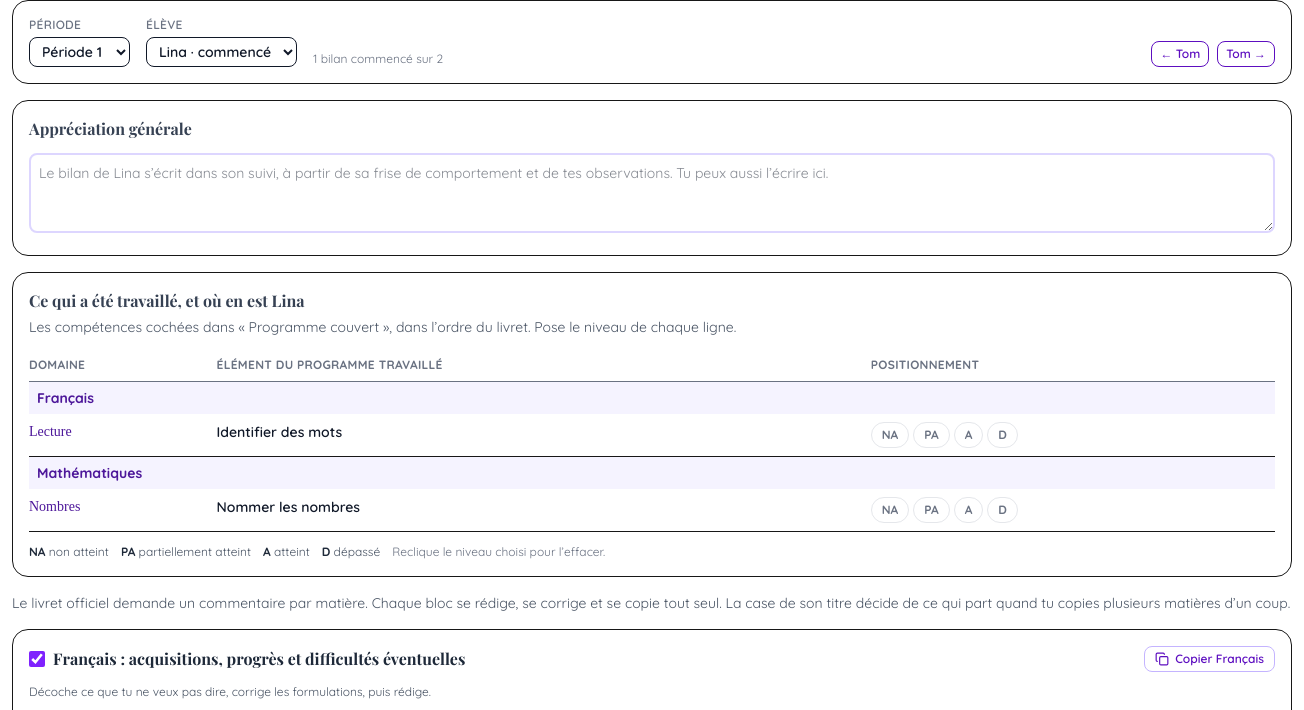
Livret › change d’élève avec les flèches et suit le compteur
This screenshot has width=1304, height=710.
Check: the text "1 bilan commencé sur 2" is shown, box x1=313 y1=51 x2=443 y2=67
Click the button "Tom →".
click(1246, 54)  # box x1=1217 y1=41 x2=1275 y2=67
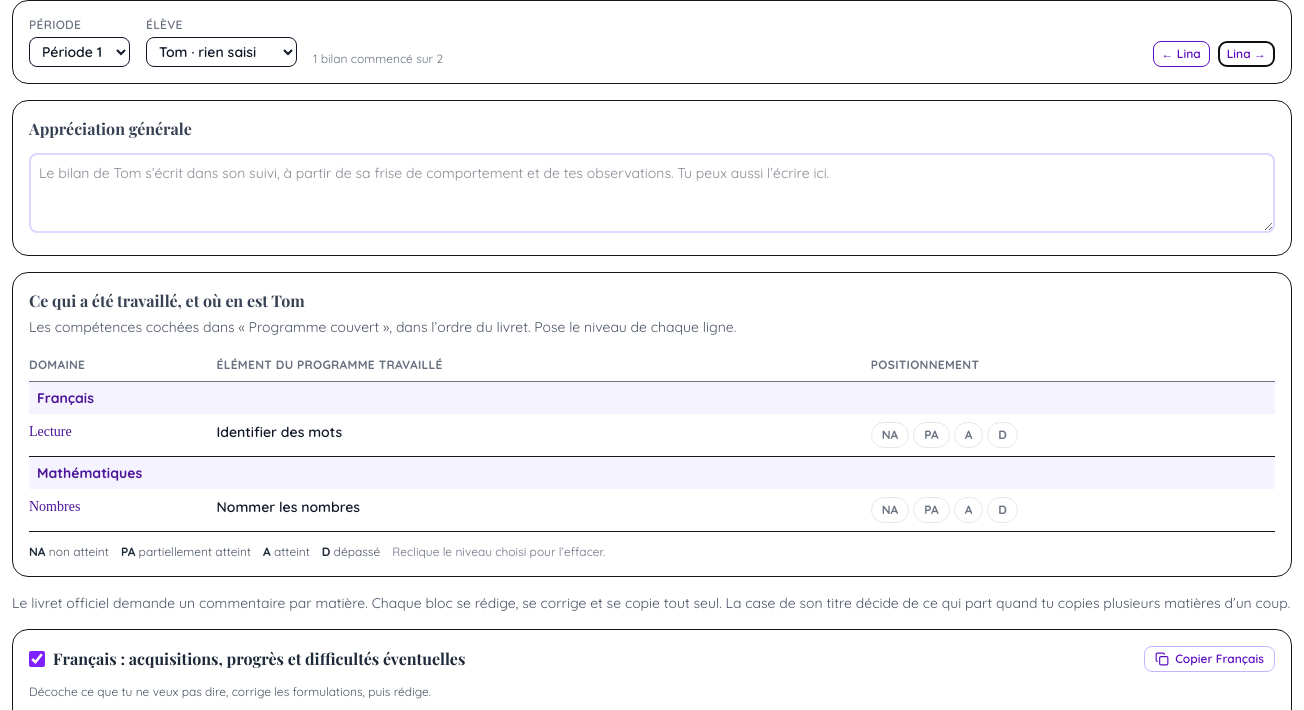
Check: the heading "Ce qui a été travaillé, et où en est Tom" is shown, box x1=29 y1=290 x2=305 y2=311
